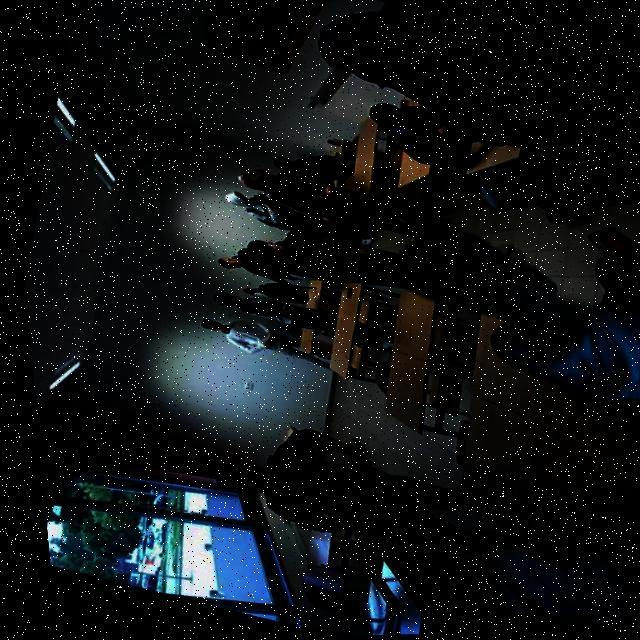phone_use: (377, 192, 638, 412), (228, 149, 423, 236), (350, 282, 418, 428)
